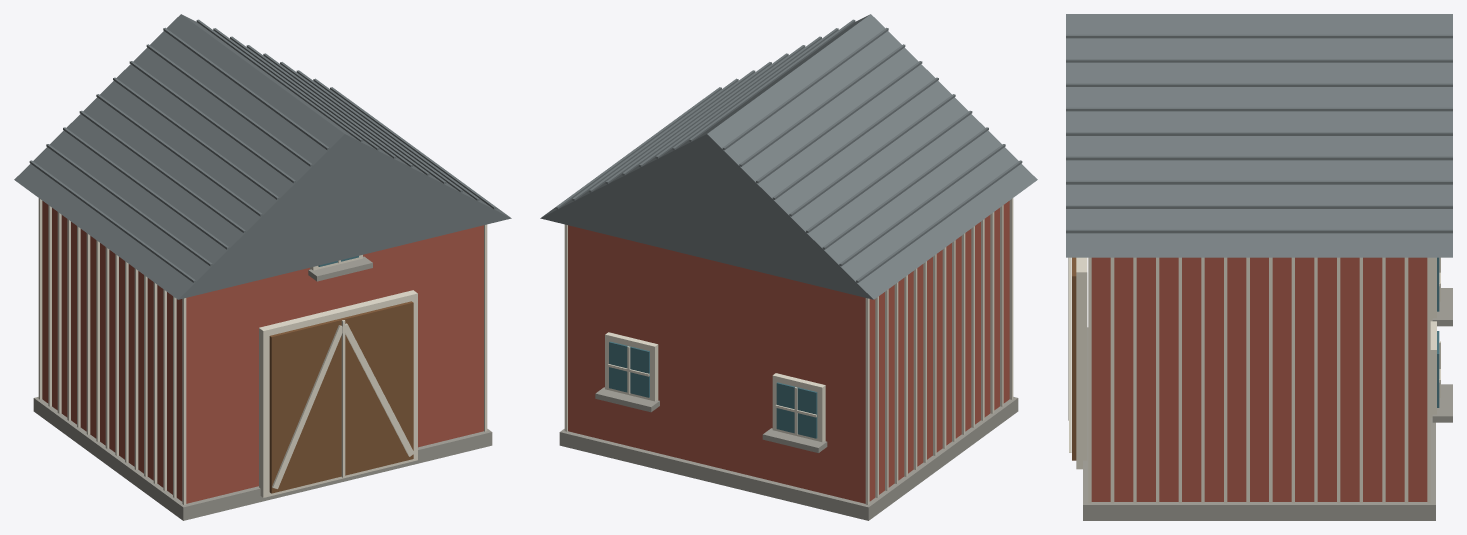
Rendered from barn-1.glb.
The picture shows the model from 3 angles, left to right: view 1: azimuth 30°, elevation 25°; view 2: azimuth 150°, elevation 25°; view 3: azimuth 270°, elevation 25°; orthographic projection. The views are drawn at different scales.
Visible parts, largest first — view 1: barn-1; view 2: barn-1; view 3: barn-1.
Boxes of the visible parts, left/top/right/bottom form: barn-1: left=14, top=14, right=511, bottom=520; barn-1: left=540, top=14, right=1037, bottom=520; barn-1: left=1066, top=14, right=1452, bottom=520.
Size of the model in its own units: 6.7 by 6.8 by 5.7.
